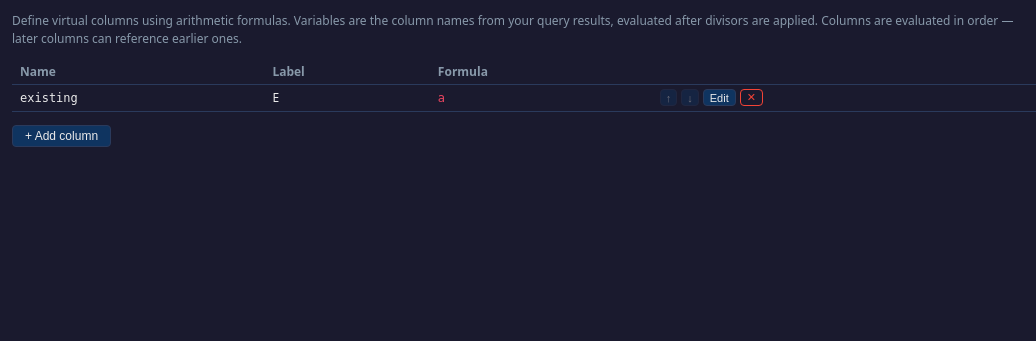
it: ComputedColumnsEditor — add flow › shows error for duplicate name
Click the button "+ Add column".
click(62, 136)  # box [12,125,111,147]
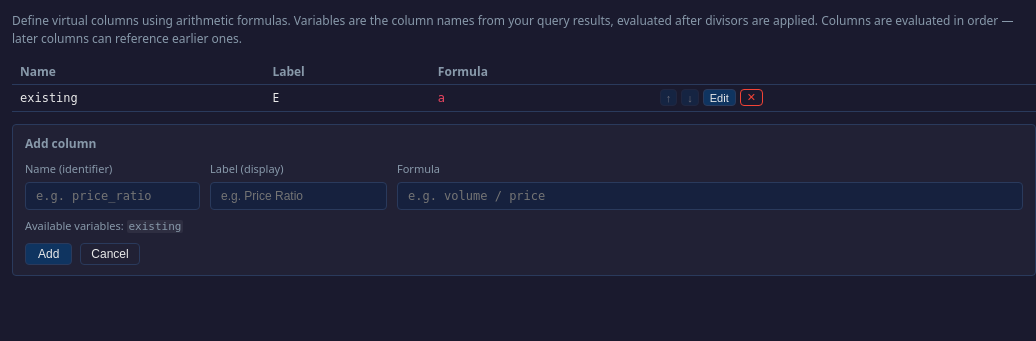
Type "existing" into the field with placeholder "e.g. price_ratio".
click(112, 196); type("existing")  # box [25,182,200,210]
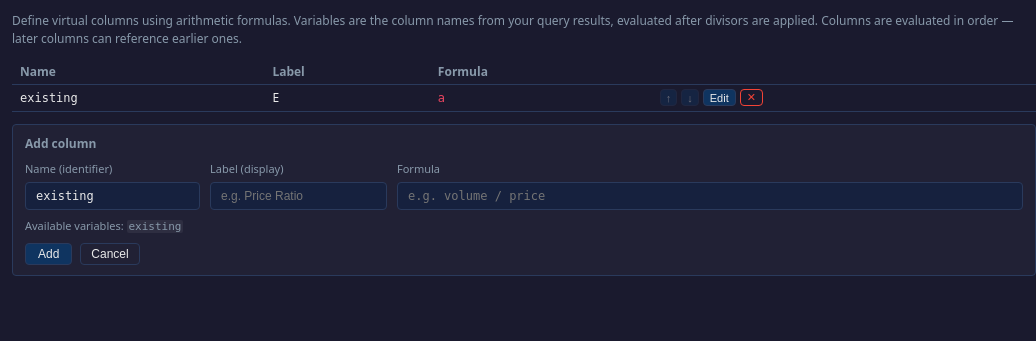
Type "b" into the field with placeholder "e.g. volume / price".
click(710, 196); type("b")  # box [397,182,1023,210]
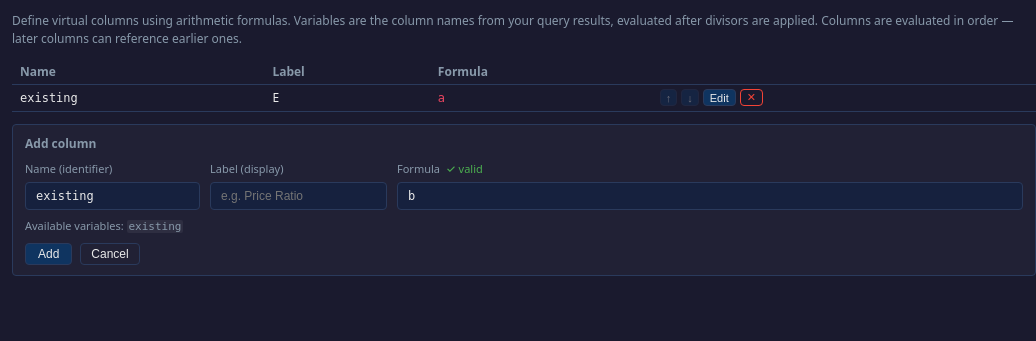
Click the button "Add".
click(49, 254)  # box [25,243,72,265]
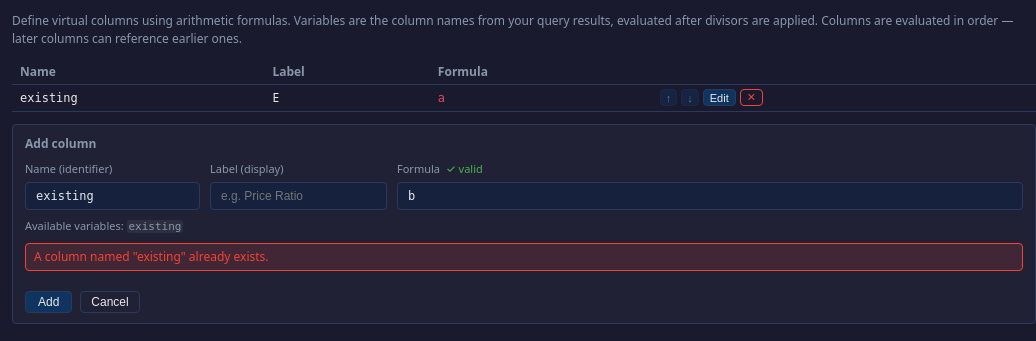
Expected: the text "A column named \"existing\" already exists." is shown, [25,243,1023,271]
